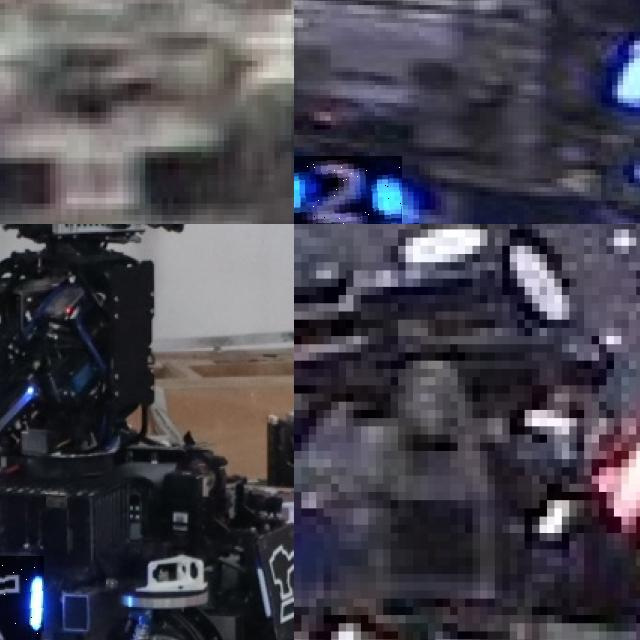B2: (294, 156, 402, 224)
Bs: (0, 556, 44, 640)
